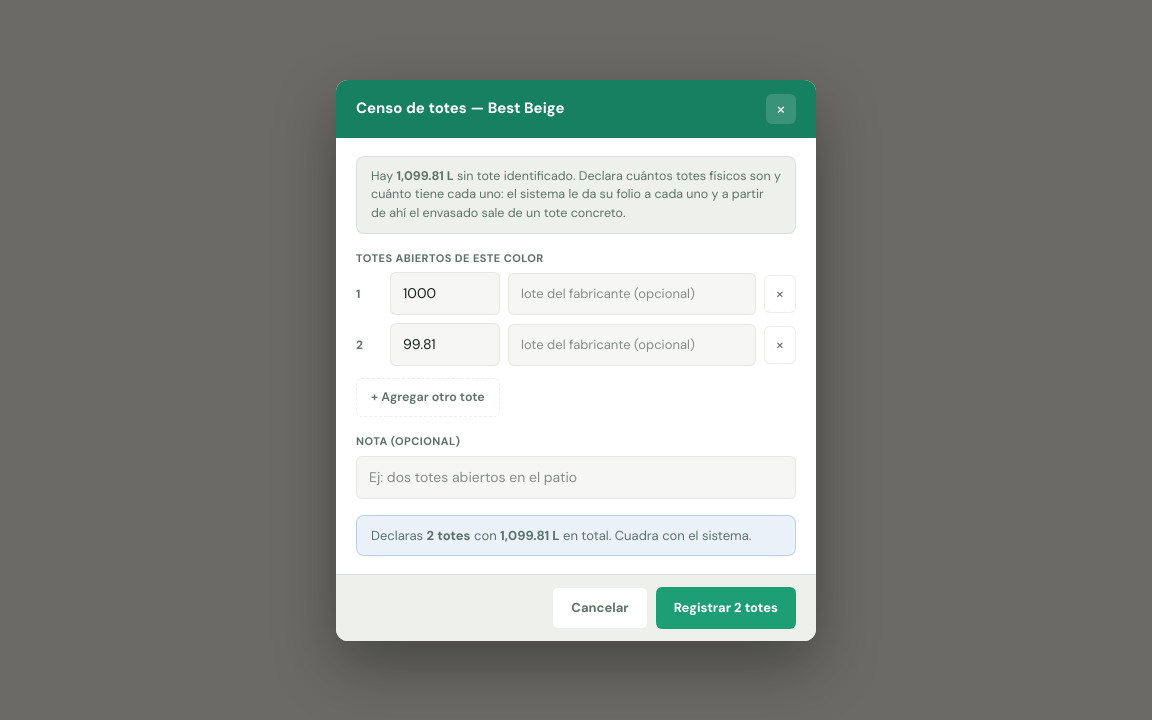
Test: CensoTotesModal › se pueden agregar y quitar totes (son piezas físicas, no un total)
Click the button "+ Agregar otro tote": (428, 398) [356,378,500,417]
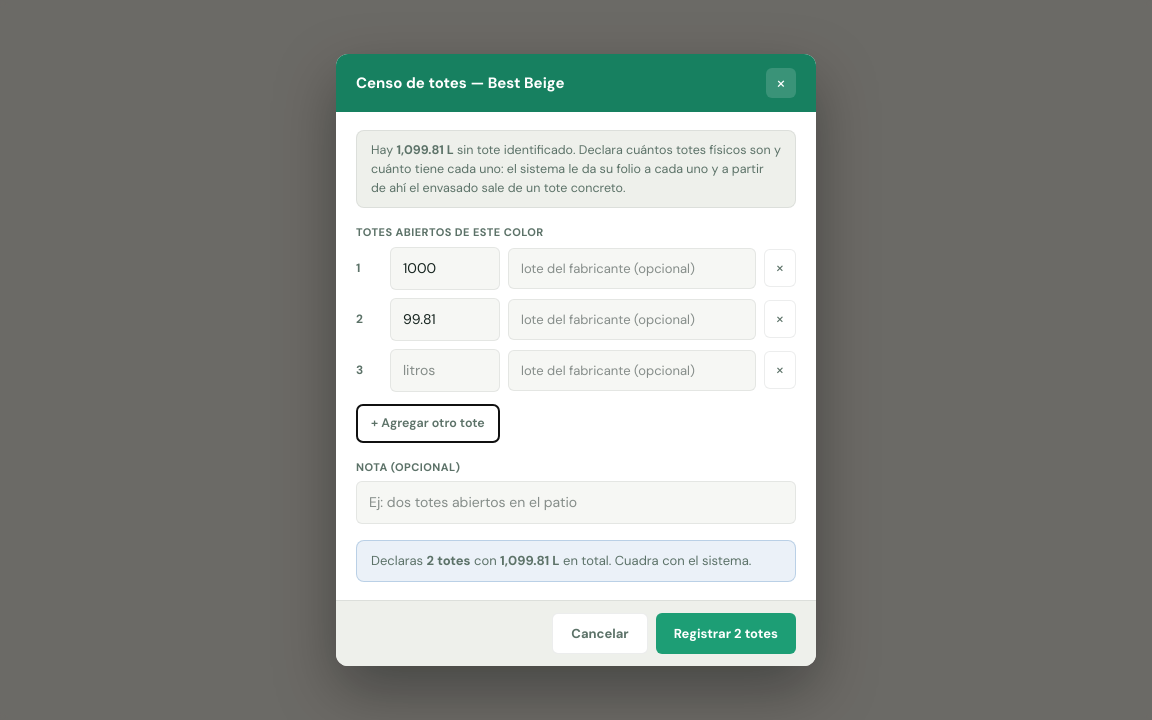
Expected: the number of number fields with placeholder "litros" is 3, [390,247,500,290]; [390,298,500,341]; [390,349,500,392]
Click the button named "Quitar tote 3": (780, 370) [764,351,796,389]
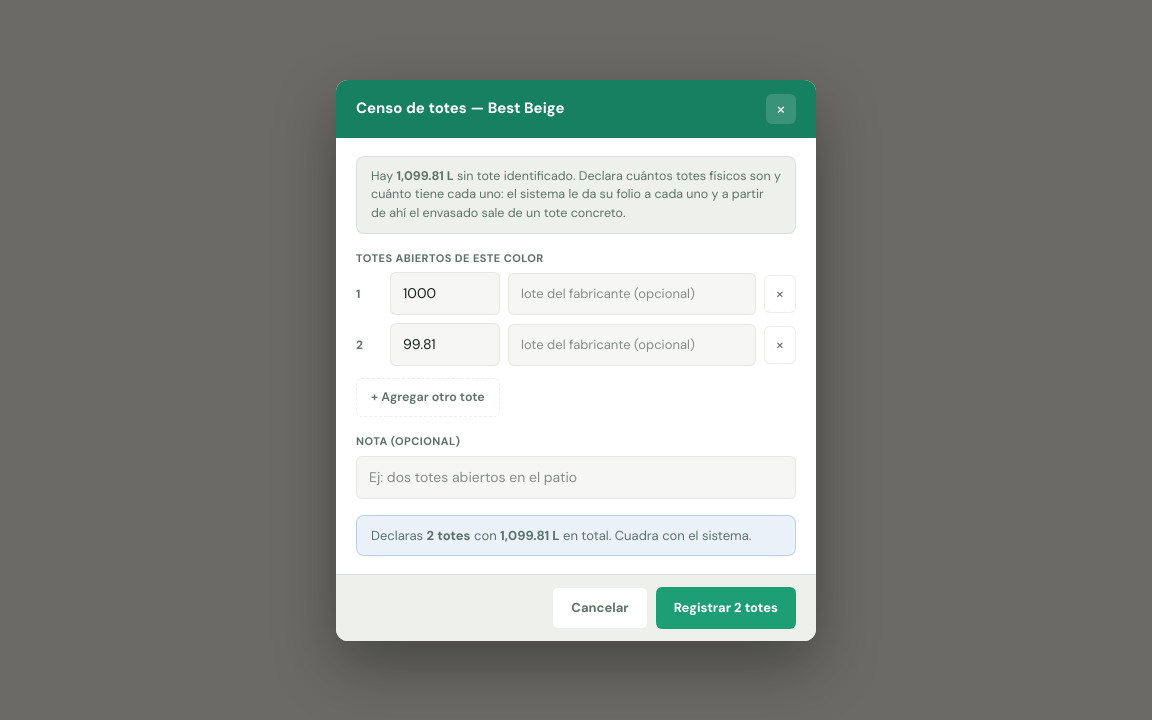
Expected: the number of number fields with placeholder "litros" is 2, [390,272,500,315]; [390,323,500,366]
